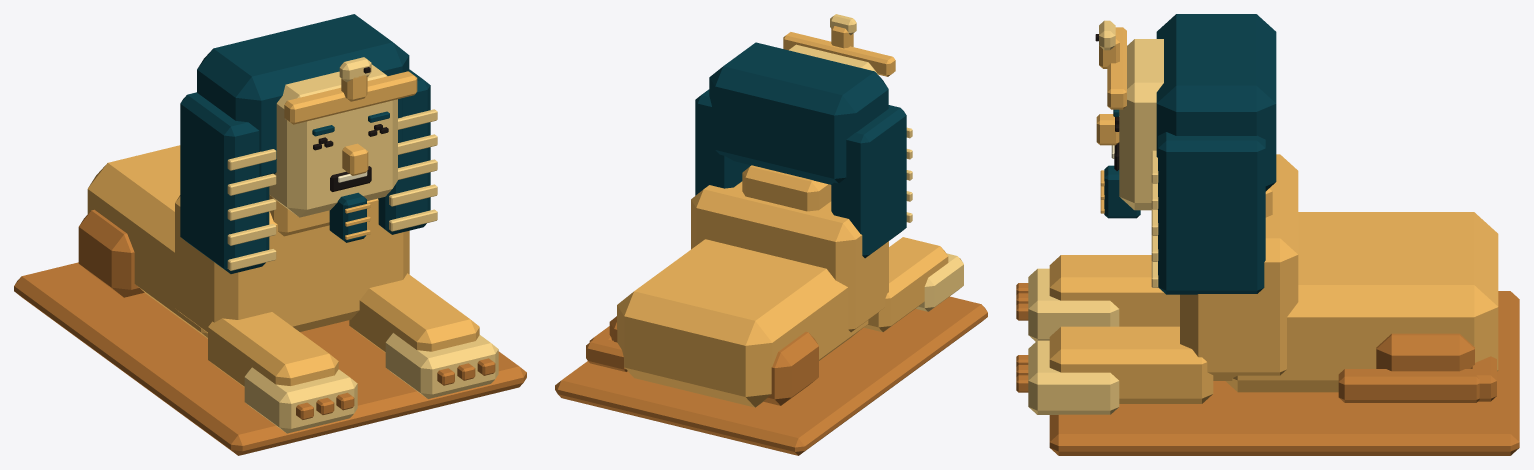
Rendered from esfinge-blockie-feliz.obj.
The picture shows the model from 3 angles, left to right: view 1: azimuth 30°, elevation 25°; view 2: azimuth 150°, elevation 25°; view 3: azimuth 270°, elevation 25°; orthographic projection. The views are drawn at different scales.
Parts seen in each view (by area): view 1: esfinge-blockie-feliz; view 2: esfinge-blockie-feliz; view 3: esfinge-blockie-feliz.
Part boxes in pixels (<box>): esfinge-blockie-feliz: <box>14,14,526,455</box>; esfinge-blockie-feliz: <box>555,14,987,455</box>; esfinge-blockie-feliz: <box>1016,14,1519,455</box>.
Bounding box in the file's own units: 2.35 × 2.61 × 3.32.
1 material, 1 textured.
